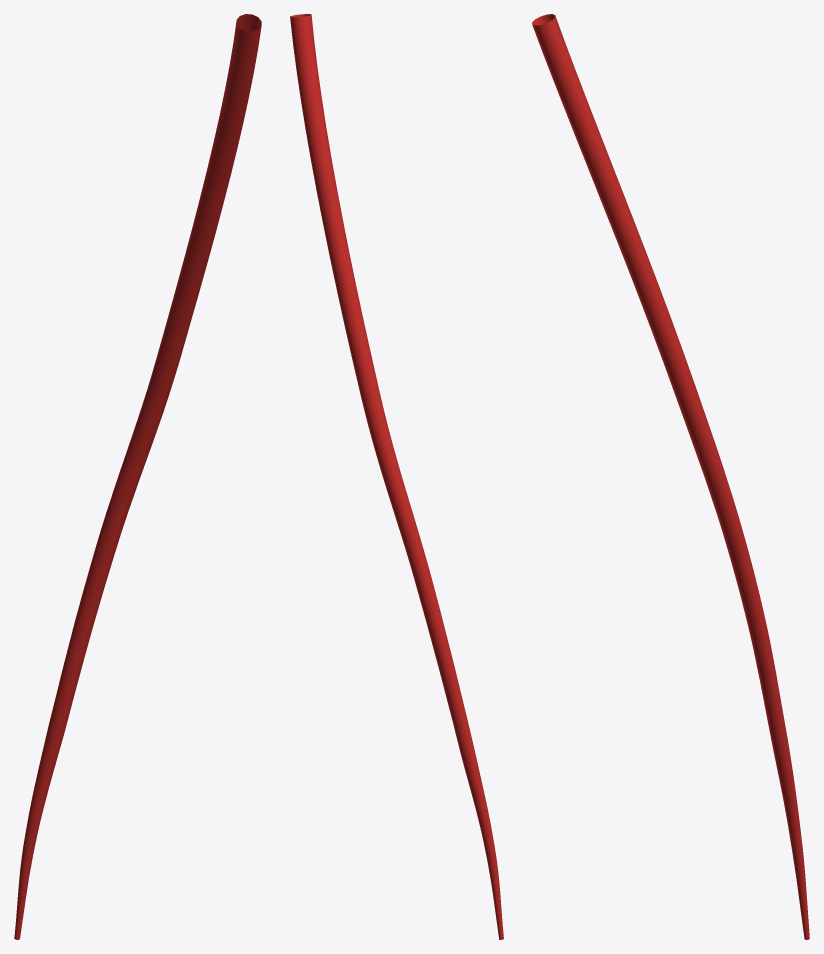
The model's file is circulatorio-thoracodorsal-artery-r.glb.
3 renders of one model, left to right at view 1: azimuth 30°, elevation 25°; view 2: azimuth 210°, elevation 25°; view 3: azimuth 270°, elevation 25°, orthographic. The views are drawn at different scales.
Visible parts, largest first — view 1: Thoracodorsal artery.r; view 2: Thoracodorsal artery.r; view 3: Thoracodorsal artery.r.
Boxes of the visible parts, <box> form: Thoracodorsal artery.r: <box>14,14,261,939</box>; Thoracodorsal artery.r: <box>290,14,503,939</box>; Thoracodorsal artery.r: <box>532,14,809,939</box>.
Size of the model in its own units: 0.00915 by 0.0763 by 0.0198.
